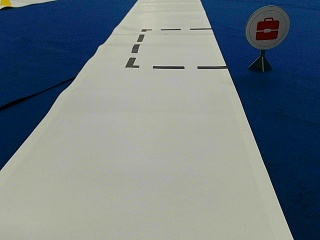company: (245, 5, 291, 49)
